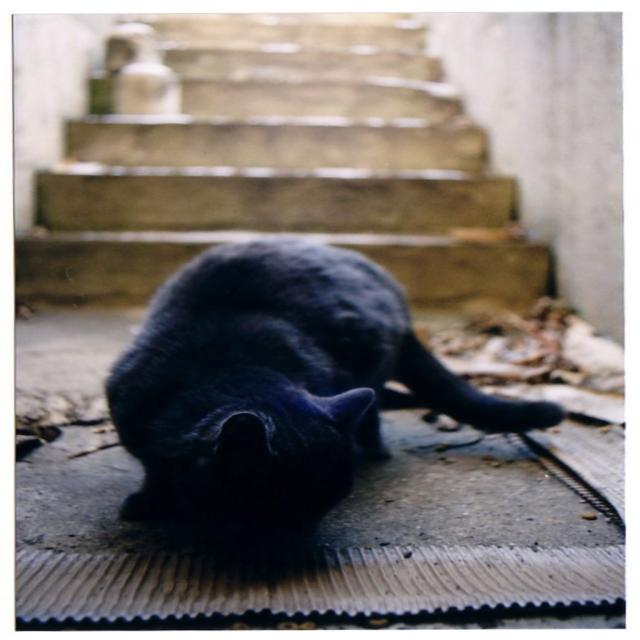Cat: (102, 235, 564, 534)
